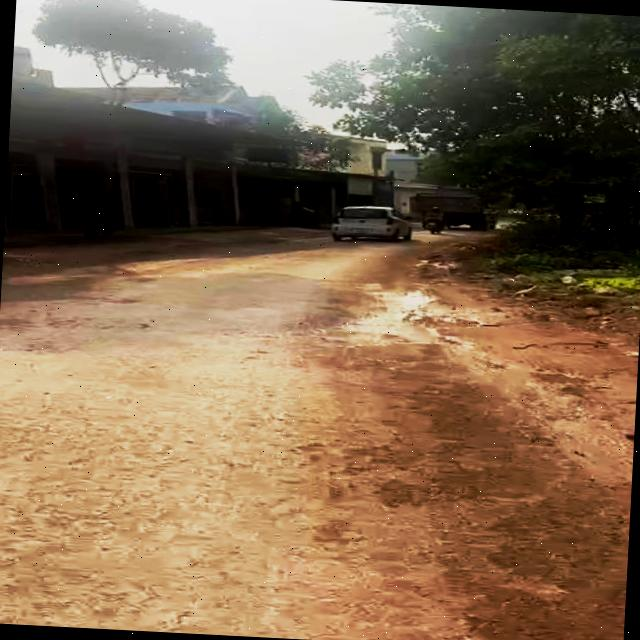pothole: (314, 326, 441, 352)
